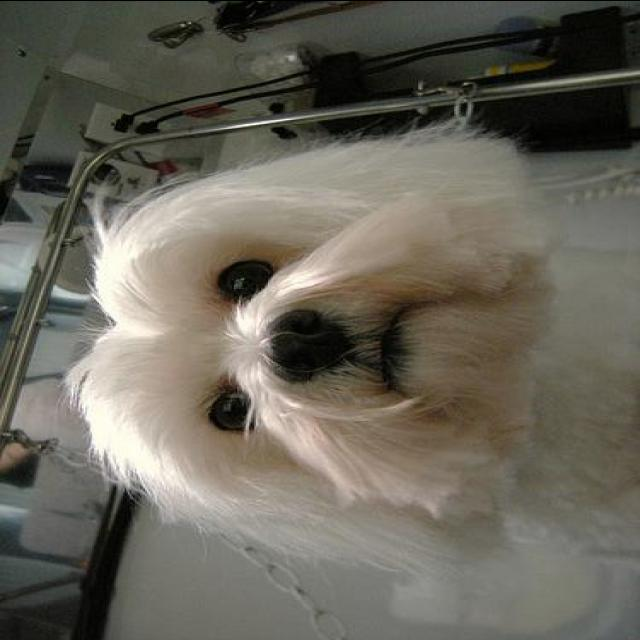maltese_dog: (69, 120, 638, 634)
